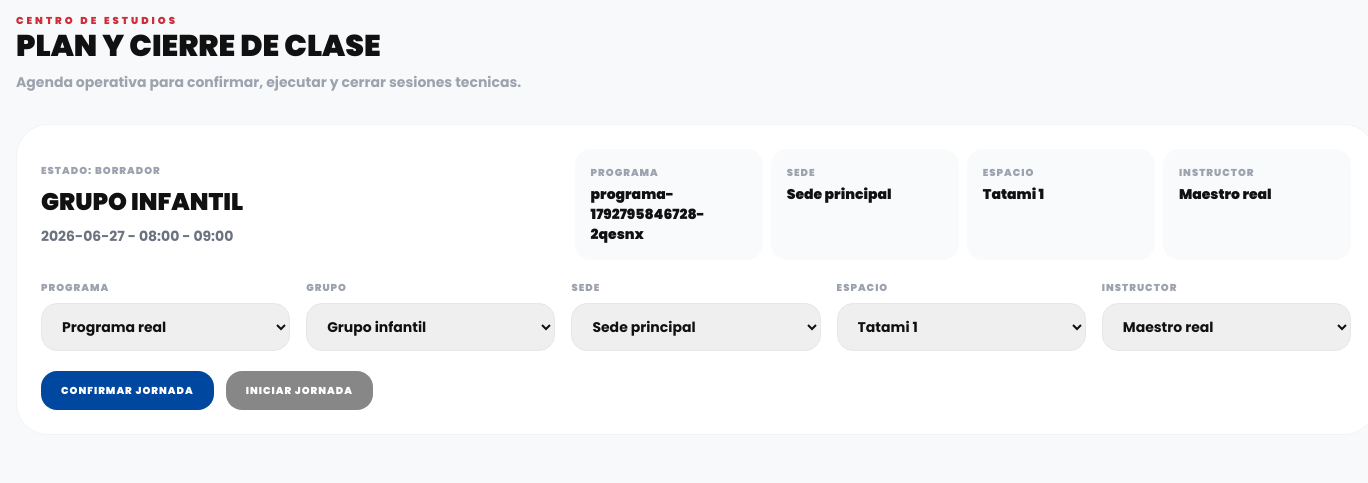
Test case: JornadasView › muestra el mensaje de conflicto de concurrencia si el guardado es rechazado por otra edicion
Click the button "Confirmar jornada": (127, 390) [41, 371, 214, 410]
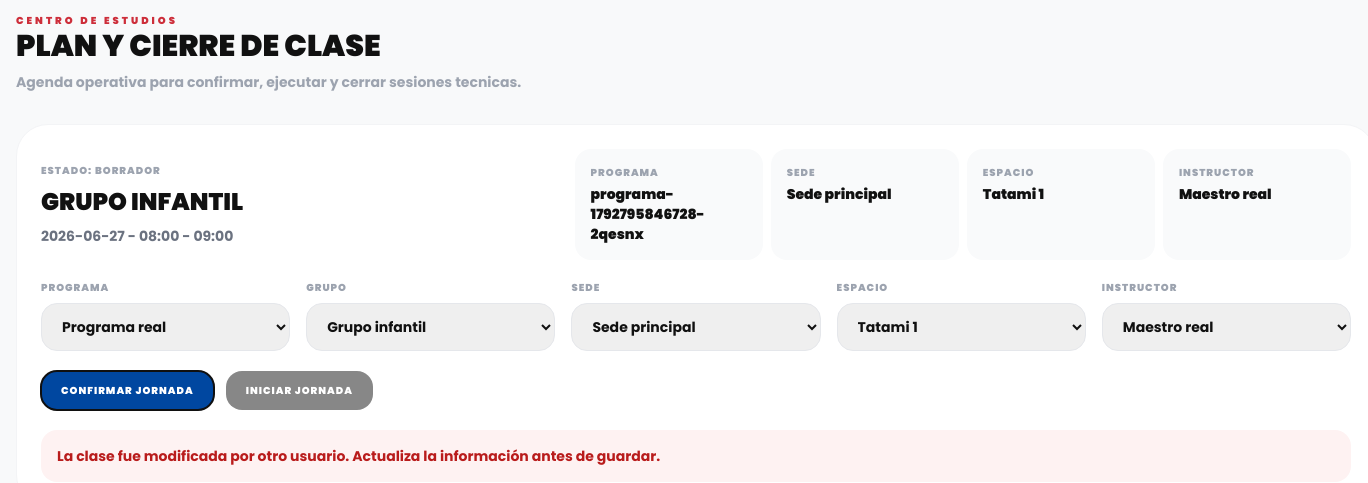
Expected: the text "Estado: borrador" is shown, [41, 163, 161, 178]
Expected: the text "La clase fue modificada por otro usuario" is shown, [57, 446, 660, 466]
